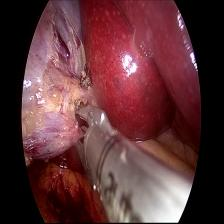Clipper: (70, 101, 114, 170)
